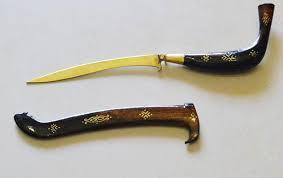facao: (27, 54, 184, 82)
